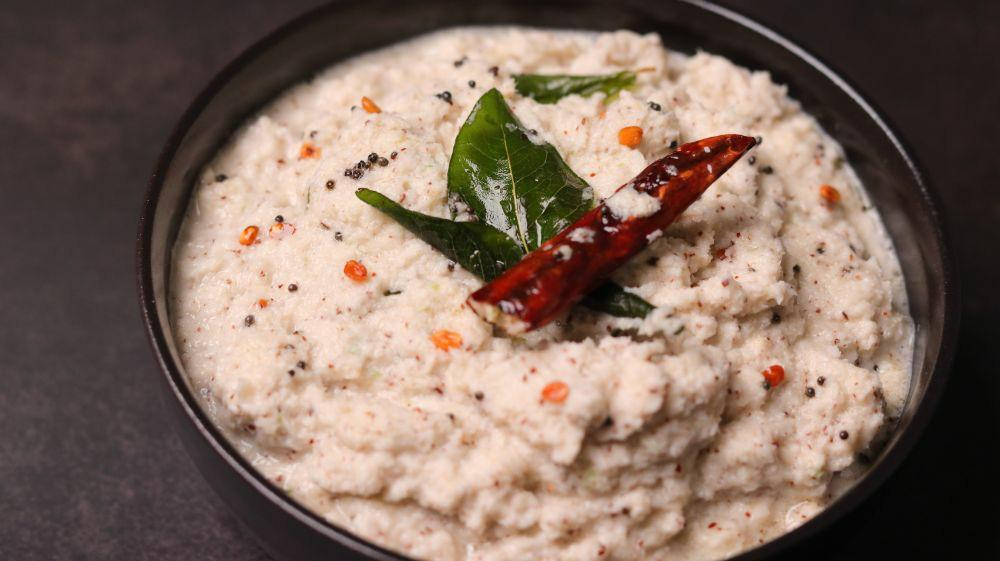CoconutChutney: (179, 25, 917, 561)
